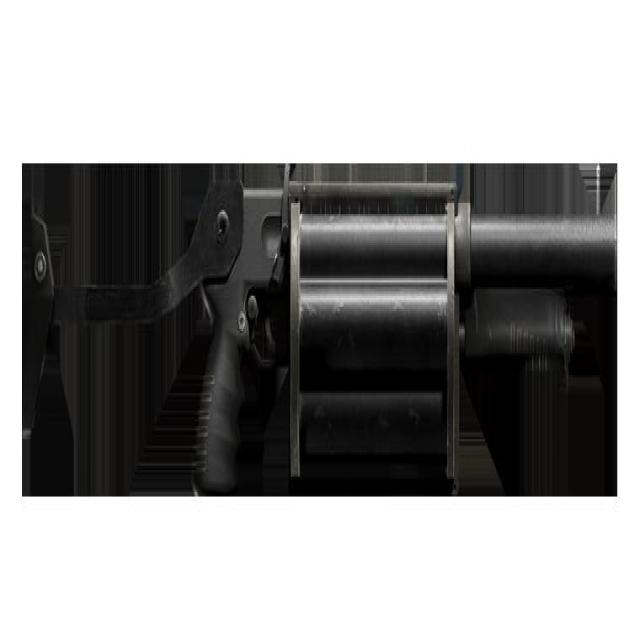weapon: (20, 141, 622, 534)
